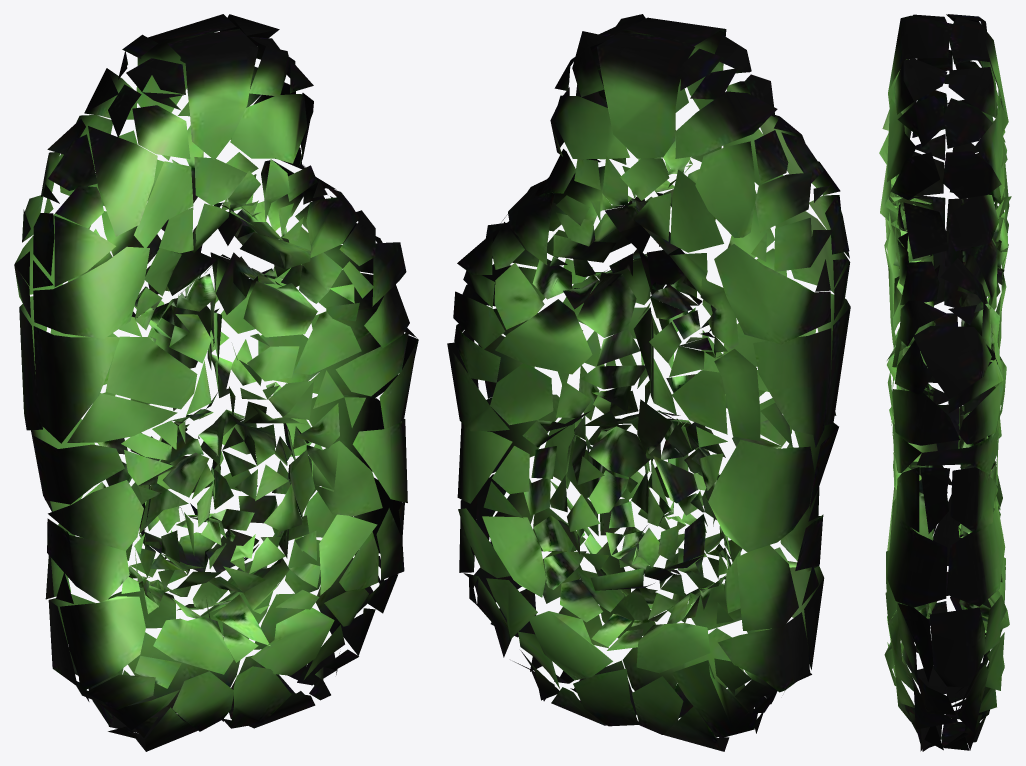
Rendered from emerald_sigil.glb.
3 views of the same model, side by side, from view 1: azimuth 30°, elevation 25°; view 2: azimuth 150°, elevation 25°; view 3: azimuth 270°, elevation 25° (orthographic). The views are drawn at different scales.
Visible parts, largest first — view 1: Mesh_0; view 2: Mesh_0; view 3: Mesh_0.
Part boxes in pixels (x1,y1,x2,y2): Mesh_0: (14,14,418,751); Mesh_0: (447,14,850,751); Mesh_0: (879,14,1011,751).
Size of the model in its own units: 0.5652 by 1 by 0.1785.
1 material, 1 textured.
